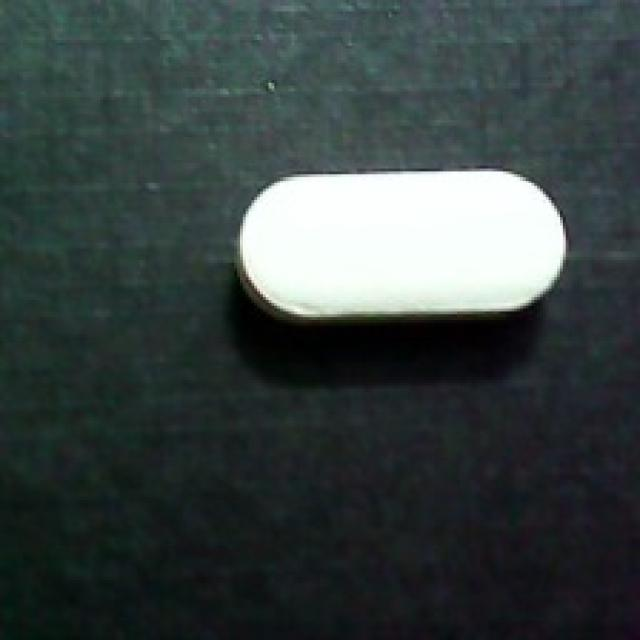no-defect: (229, 157, 571, 331)
